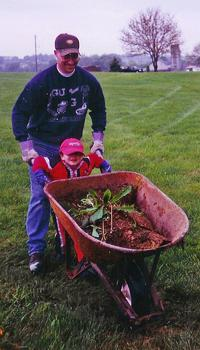person: (10, 33, 108, 275)
